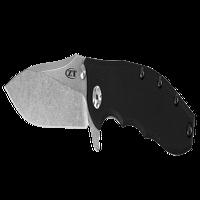knife: (3, 48, 196, 159)
